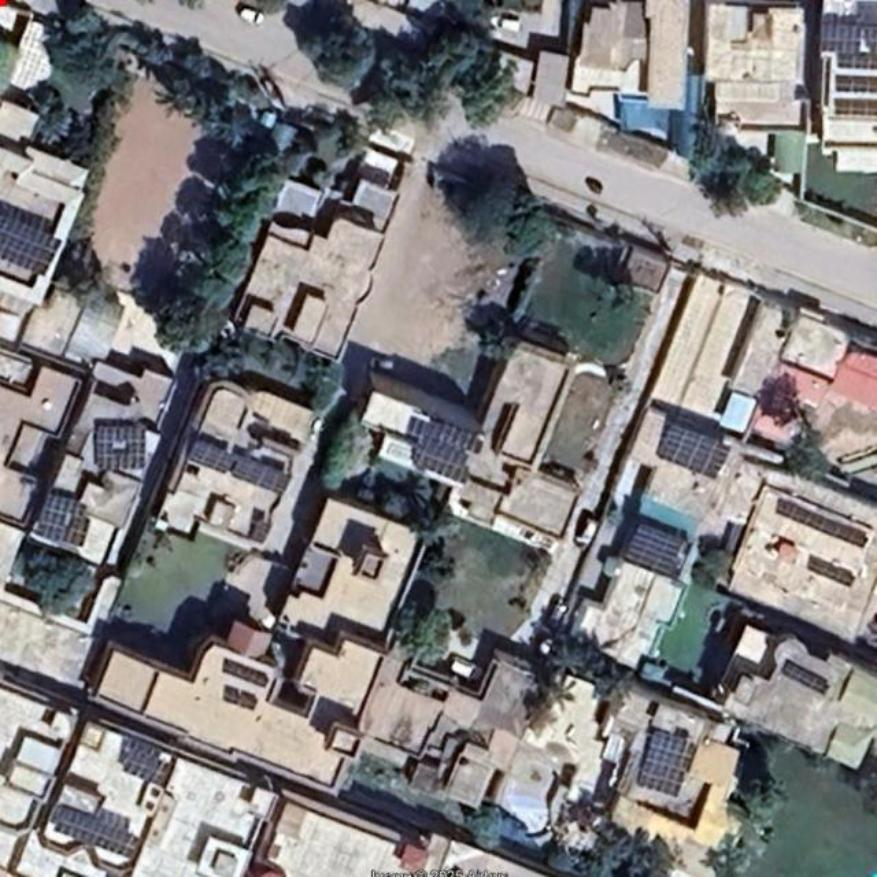Solarpanel: (57, 806, 142, 862), (777, 498, 867, 548), (625, 519, 690, 583), (636, 730, 698, 795), (0, 215, 62, 275), (659, 423, 729, 475), (34, 495, 88, 545), (418, 418, 474, 466), (95, 421, 147, 470), (233, 456, 290, 492), (821, 21, 876, 53), (782, 660, 828, 694), (186, 442, 236, 473), (808, 558, 857, 585), (835, 74, 876, 91), (839, 99, 876, 115)
